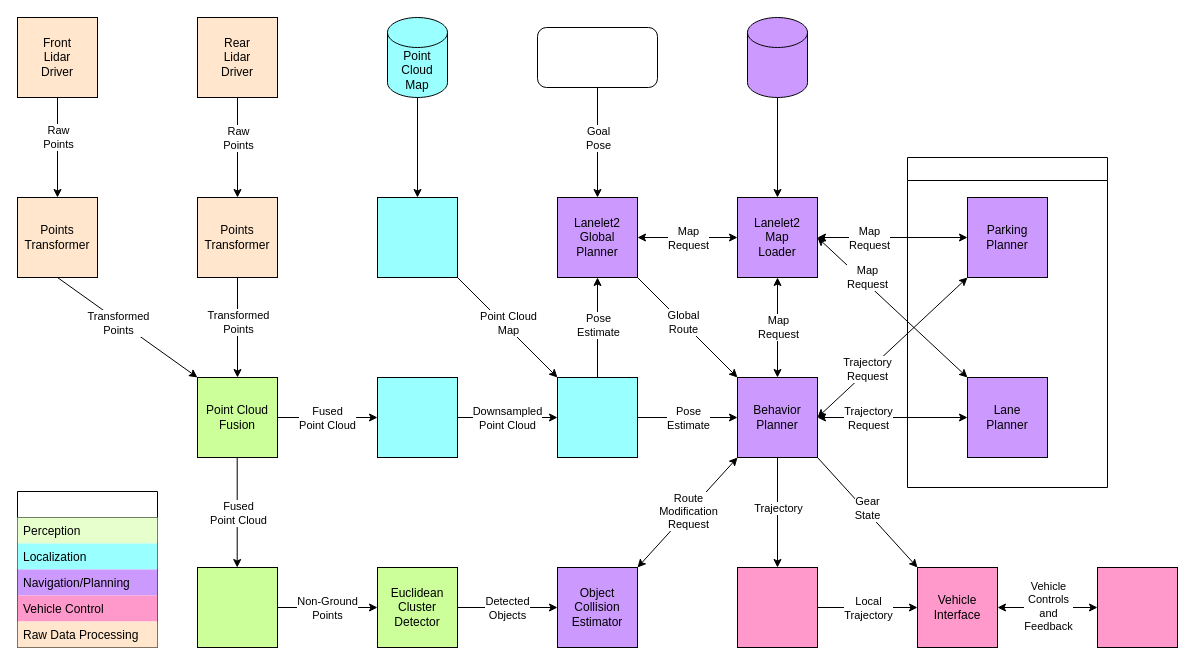
This 1195x668 diagram has some shape labels left out. Each missing label, with the box of its shape:
Lanelet2 Map: (746, 16, 808, 98)
Legend: (16, 490, 158, 648)
MPC Controller: (736, 566, 818, 648)
NDT Localizer: (556, 376, 638, 458)
Point Cloud Map Loader: (376, 196, 458, 278)
Ray Ground Filter: (196, 566, 278, 648)
rviz2 or Web Interface: (536, 26, 658, 88)
Sub-Planners: (906, 156, 1108, 488)
Vehicle DBW System: (1096, 566, 1178, 648)
Voxel Grid Downsampler: (376, 376, 458, 458)
